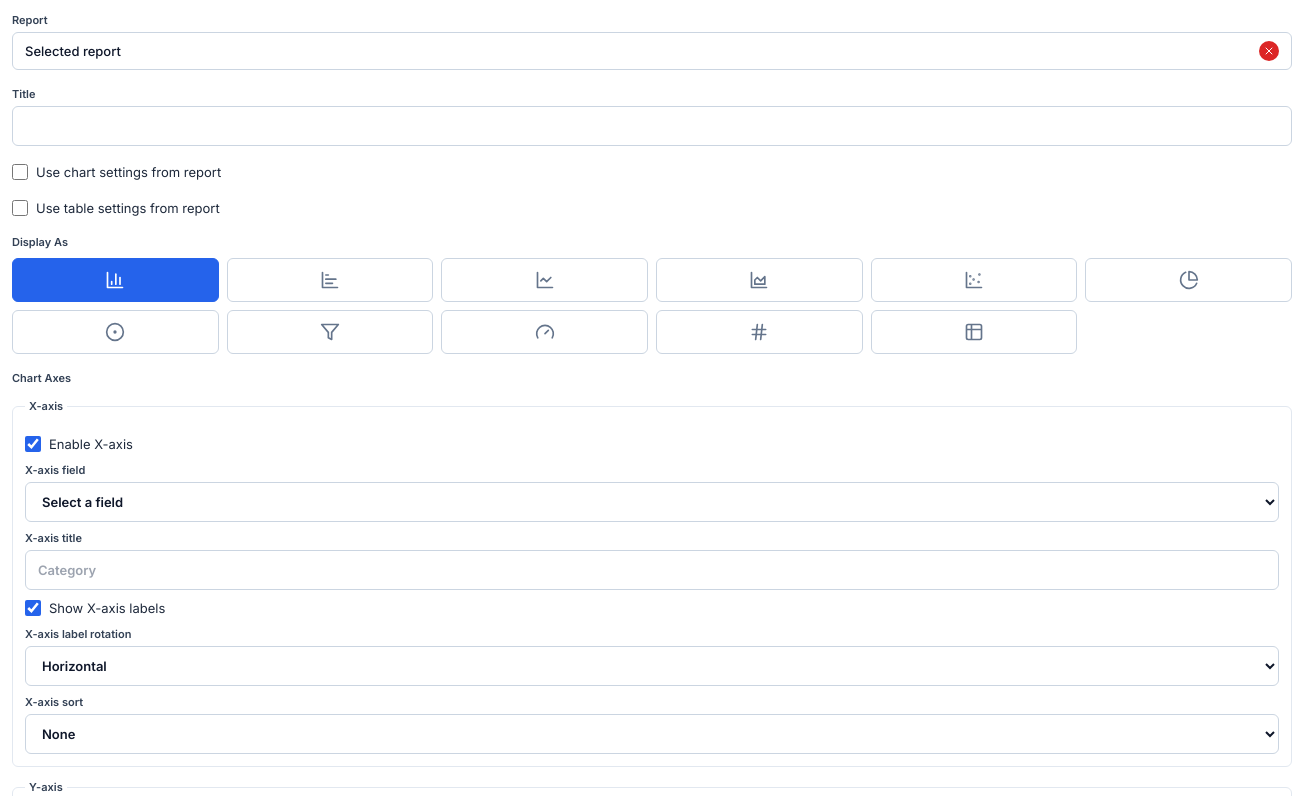
Test: widget chart axes form › switches the visible controls when the chart type changes
The width and height of the screenshot is (1304, 796).
Click the button named "Gauge" at [545, 332], box top-left (441, 310), bottom-right (648, 354)
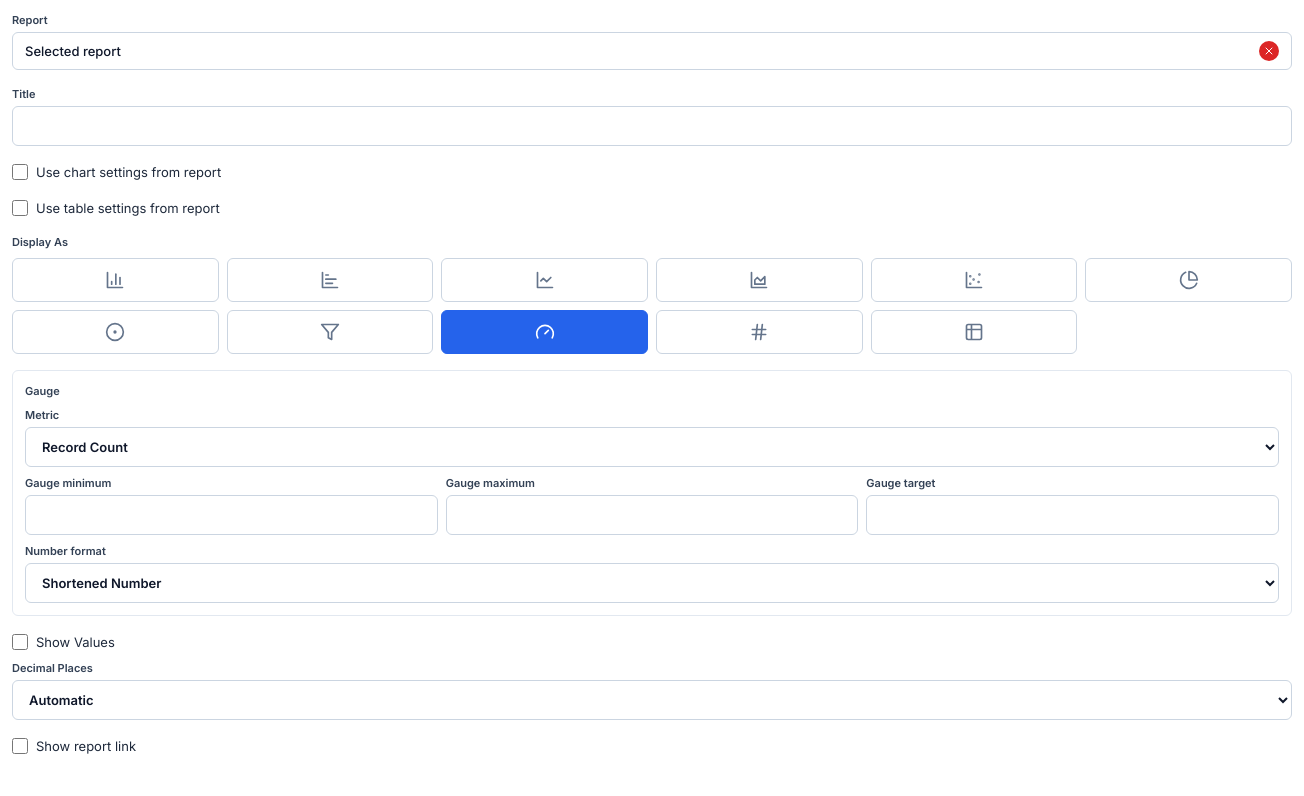
Expected: the label labelled "Enable X-axis" is gone
Expected: the field labelled "Gauge minimum" is shown, top-left (25, 495), bottom-right (438, 535)
Expected: the field labelled "Gauge target" is shown, top-left (866, 495), bottom-right (1279, 535)
Click the button named "Scatter" at [974, 280], box top-left (871, 258), bottom-right (1077, 302)
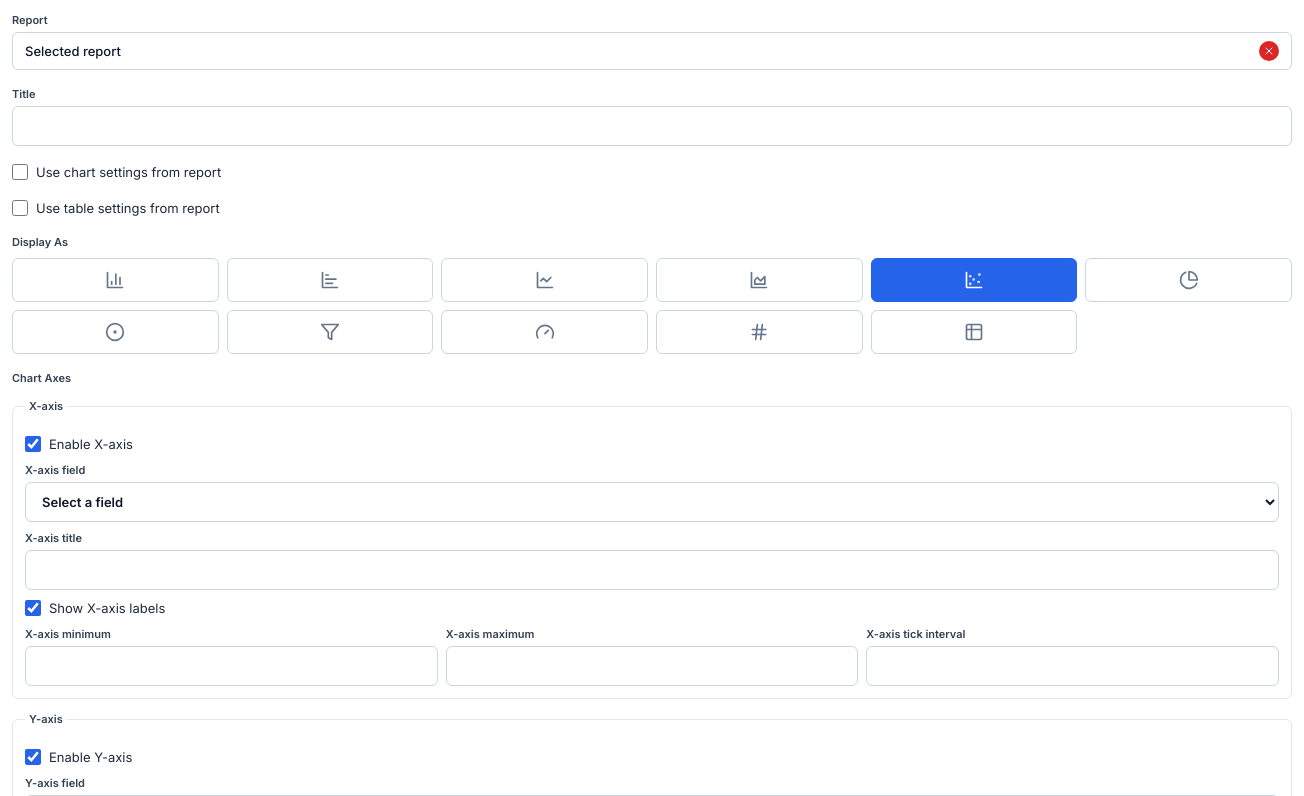
Expected: the checkbox labelled "Enable X-axis" is shown, top-left (25, 436), bottom-right (41, 452)
